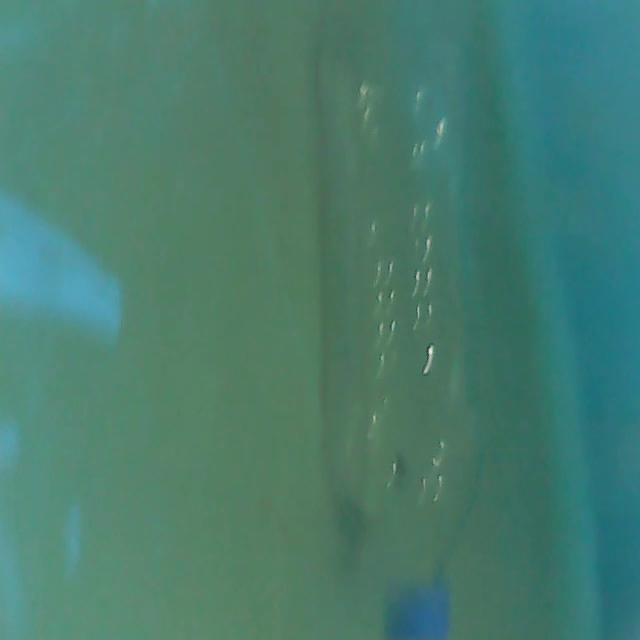plastic bottle: (296, 17, 504, 640)
